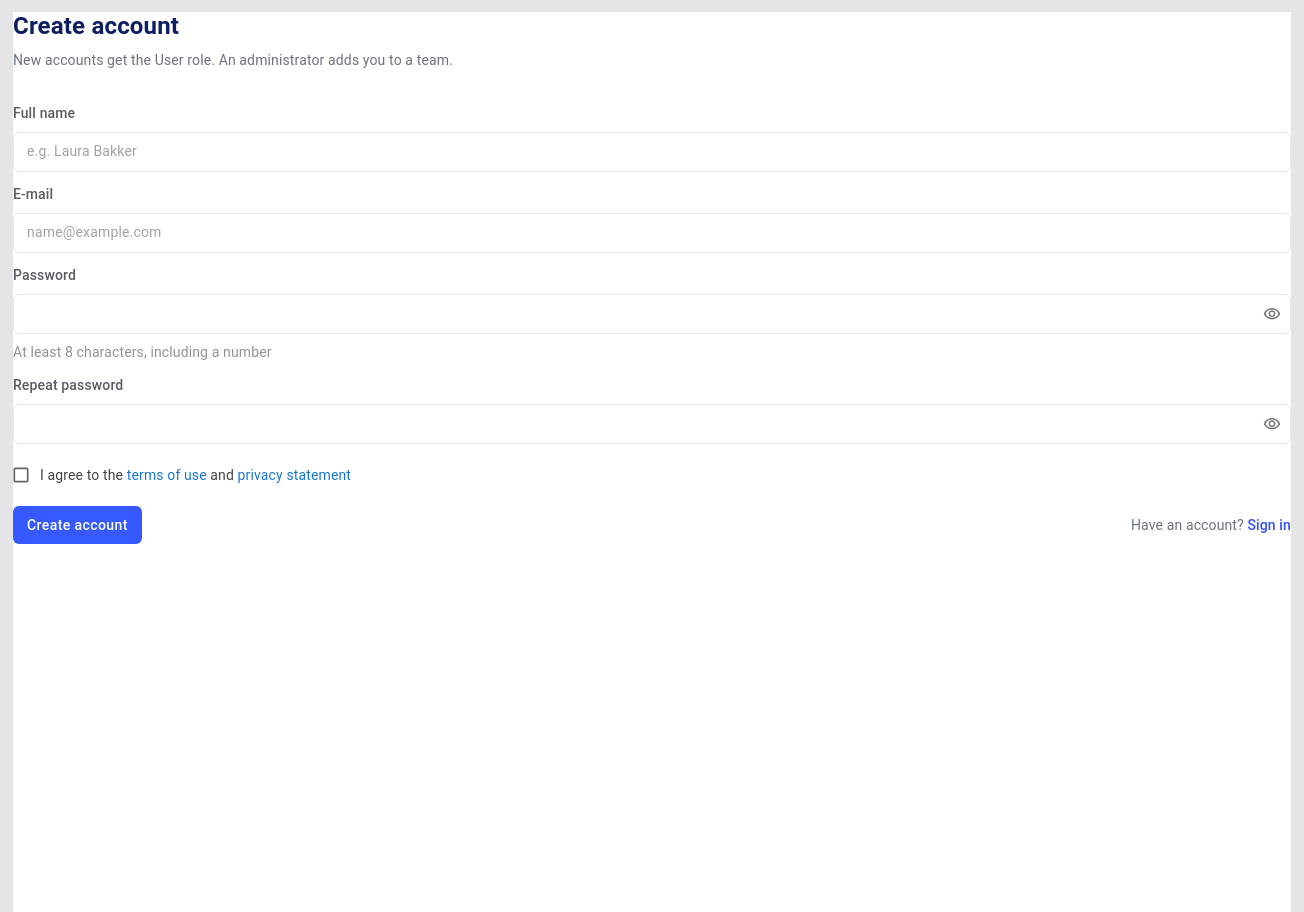
Test case: CreateAccountForm validation › shows every error for an empty form
The width and height of the screenshot is (1304, 912).
Click the button "Create account" at (77, 525), box [13,506,142,544]
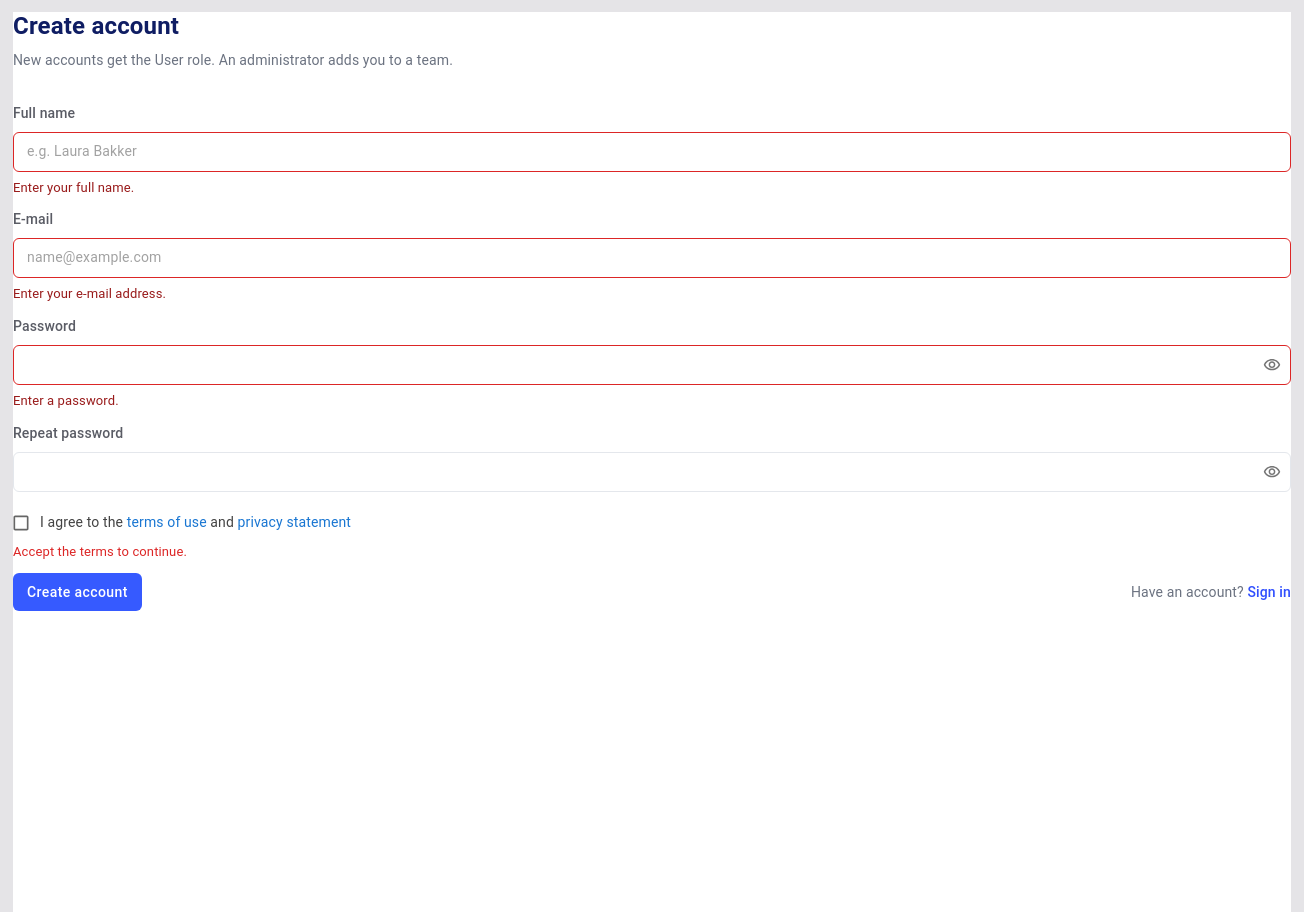
Check: the text "Enter your full name." is shown, box [13,180,134,195]
Check: the text "Enter your e-mail address." is shown, box [13,286,166,301]
Check: the text "Enter a password." is shown, box [13,393,119,408]
